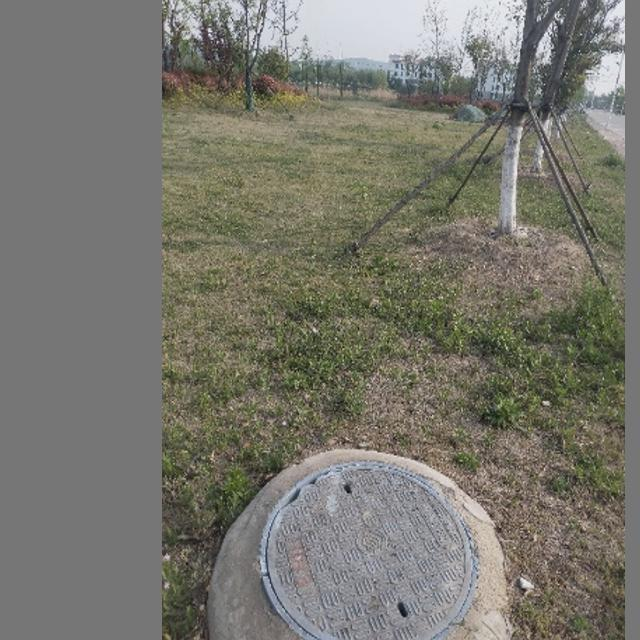good: (255, 458, 476, 640)
